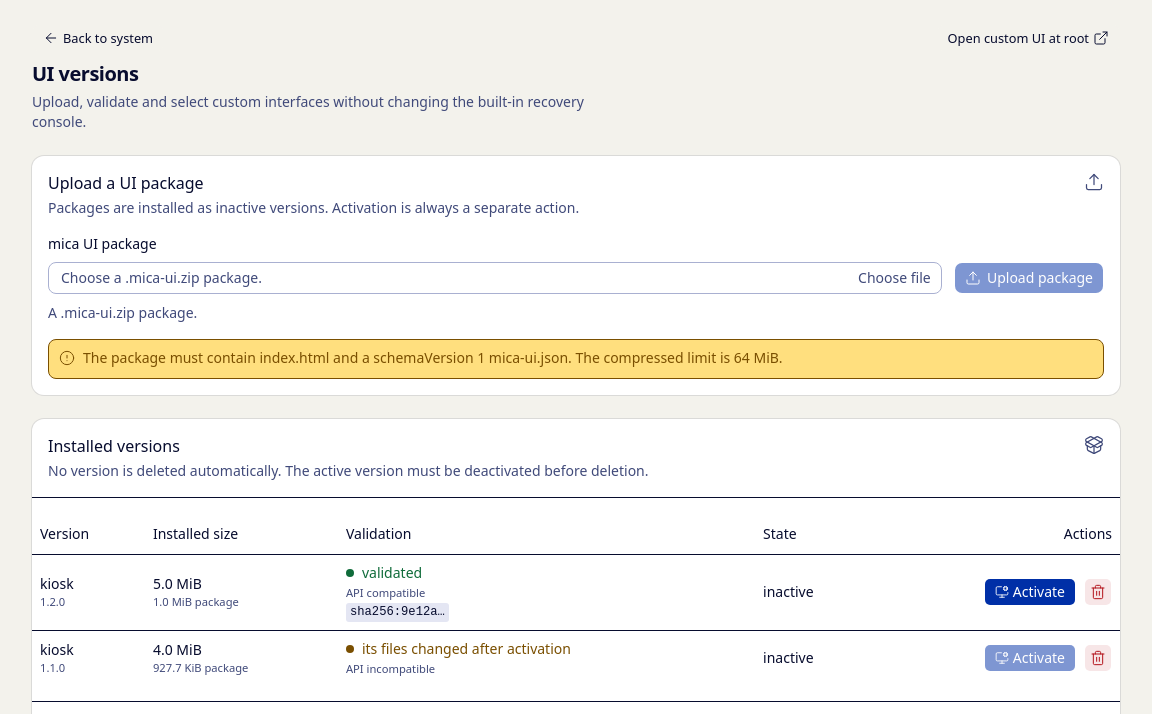
Scenario: the UI version manager › reports an activation, which used to change nothing visible
This screenshot has width=1152, height=714.
What coordinates should you click on to do the following:
click the button "Activate" in the row of "1.2.0"
I would click on:
 (1030, 592)
Its box is [984,578,1076,606].
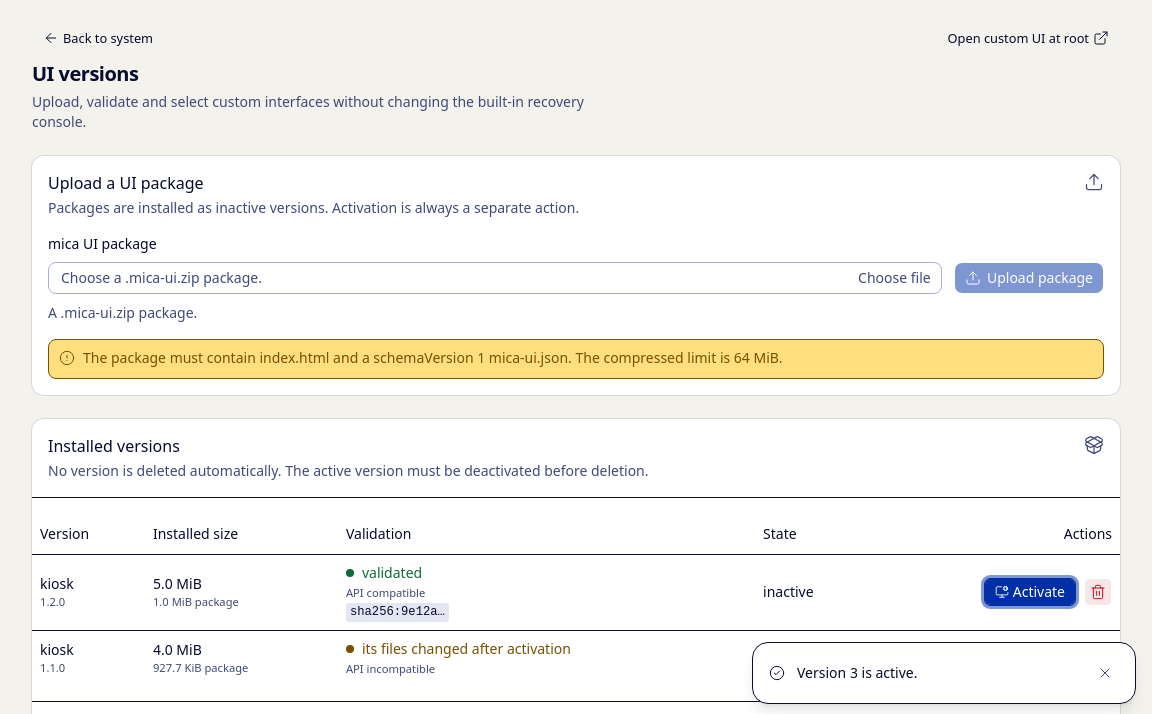
Check: the heading "Version 3 is active." is shown, box [797,663,918,682]
